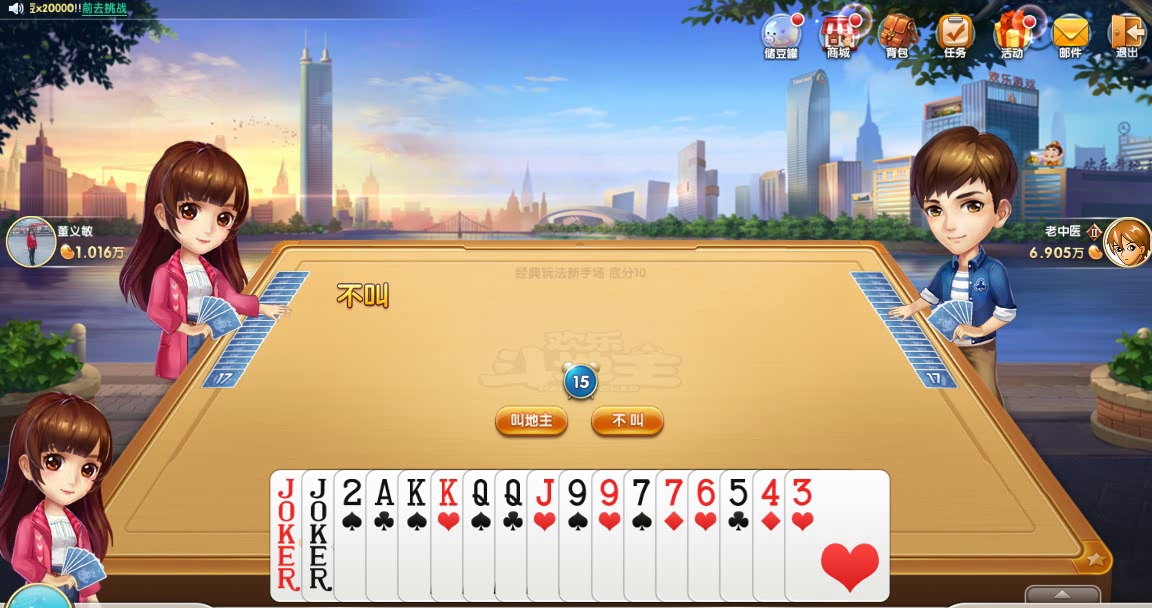11~3: (526, 469, 630, 601)
12~2: (494, 469, 598, 601)
12~4: (461, 469, 565, 601)
13~3: (429, 469, 533, 601)
13~4: (396, 469, 500, 601)
14~2: (365, 469, 469, 601)
15~4: (332, 469, 436, 601)
17~3: (301, 469, 405, 601)
18~4: (269, 469, 373, 601)
3~3: (784, 469, 888, 601)
4~1: (752, 469, 856, 601)
5~2: (719, 469, 823, 601)
6~3: (687, 469, 791, 601)
7~1: (655, 469, 759, 601)
7~4: (622, 469, 726, 601)
9~3: (591, 469, 695, 601)
9~4: (558, 469, 662, 601)
